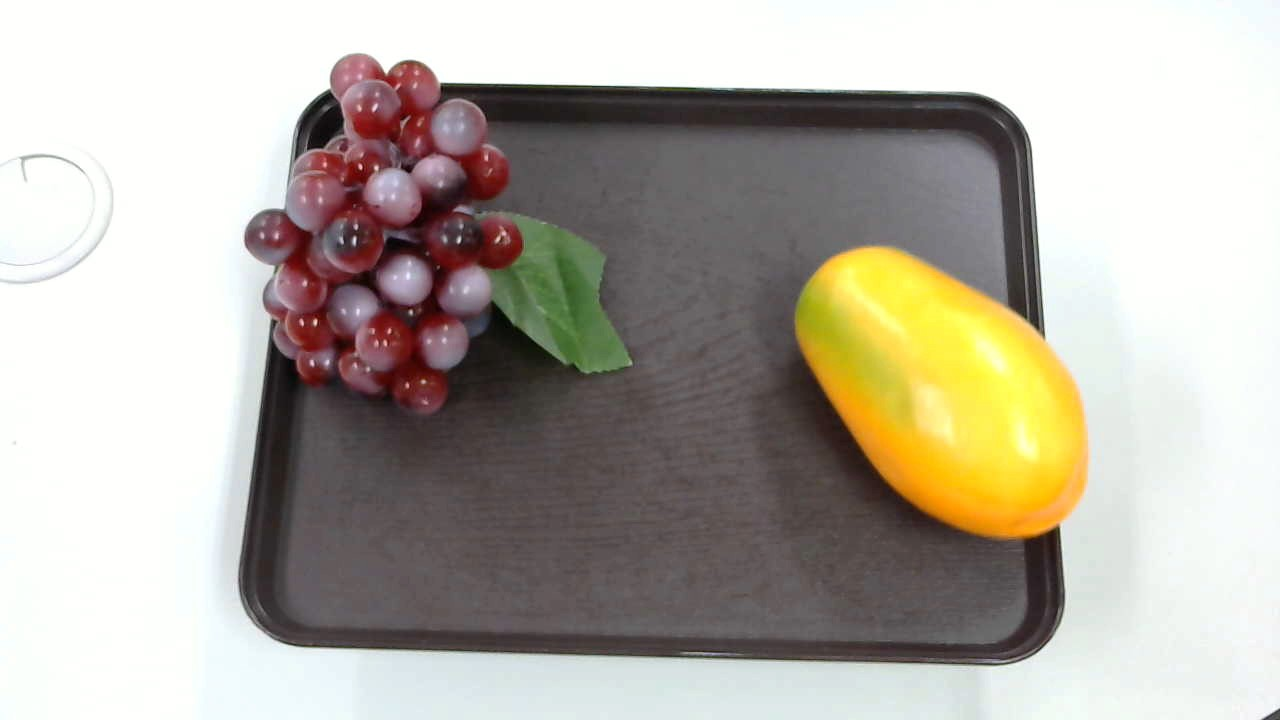grape: (239, 52, 635, 420)
papya: (793, 242, 1090, 546)
